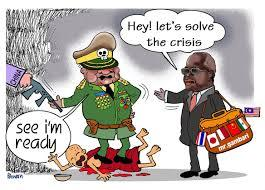person: (48, 31, 147, 163), (155, 51, 233, 179), (47, 131, 161, 176), (7, 60, 33, 92)
